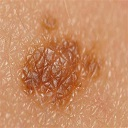Melanoma: (21, 38, 93, 97)
